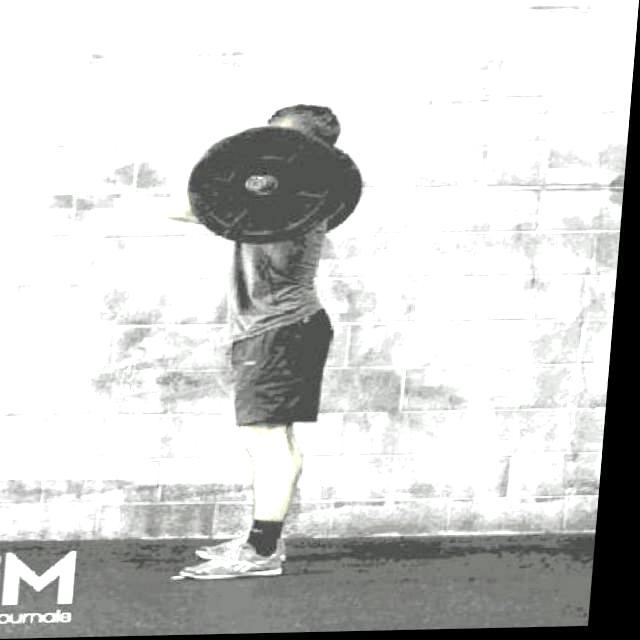barbell: (182, 121, 347, 252)
